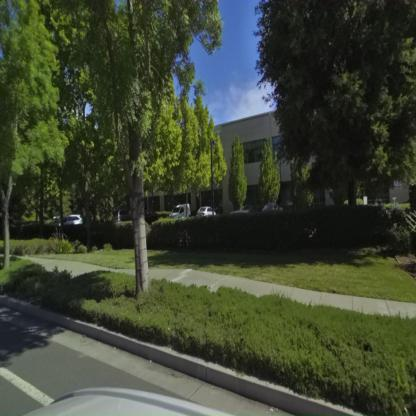car: (56, 205, 89, 232), (169, 203, 190, 220), (197, 206, 215, 216)
